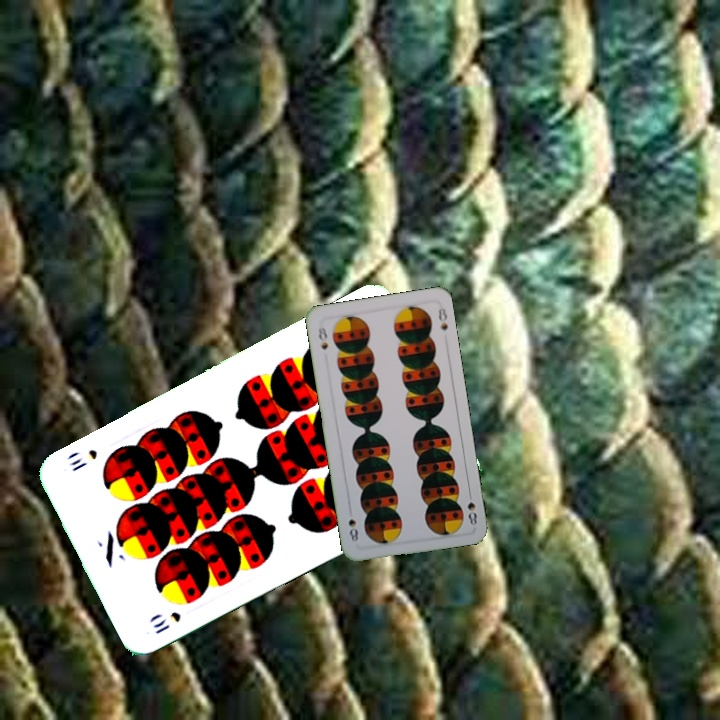S10: (149, 607, 184, 637)
S8: (463, 487, 480, 528), (314, 323, 330, 352)
